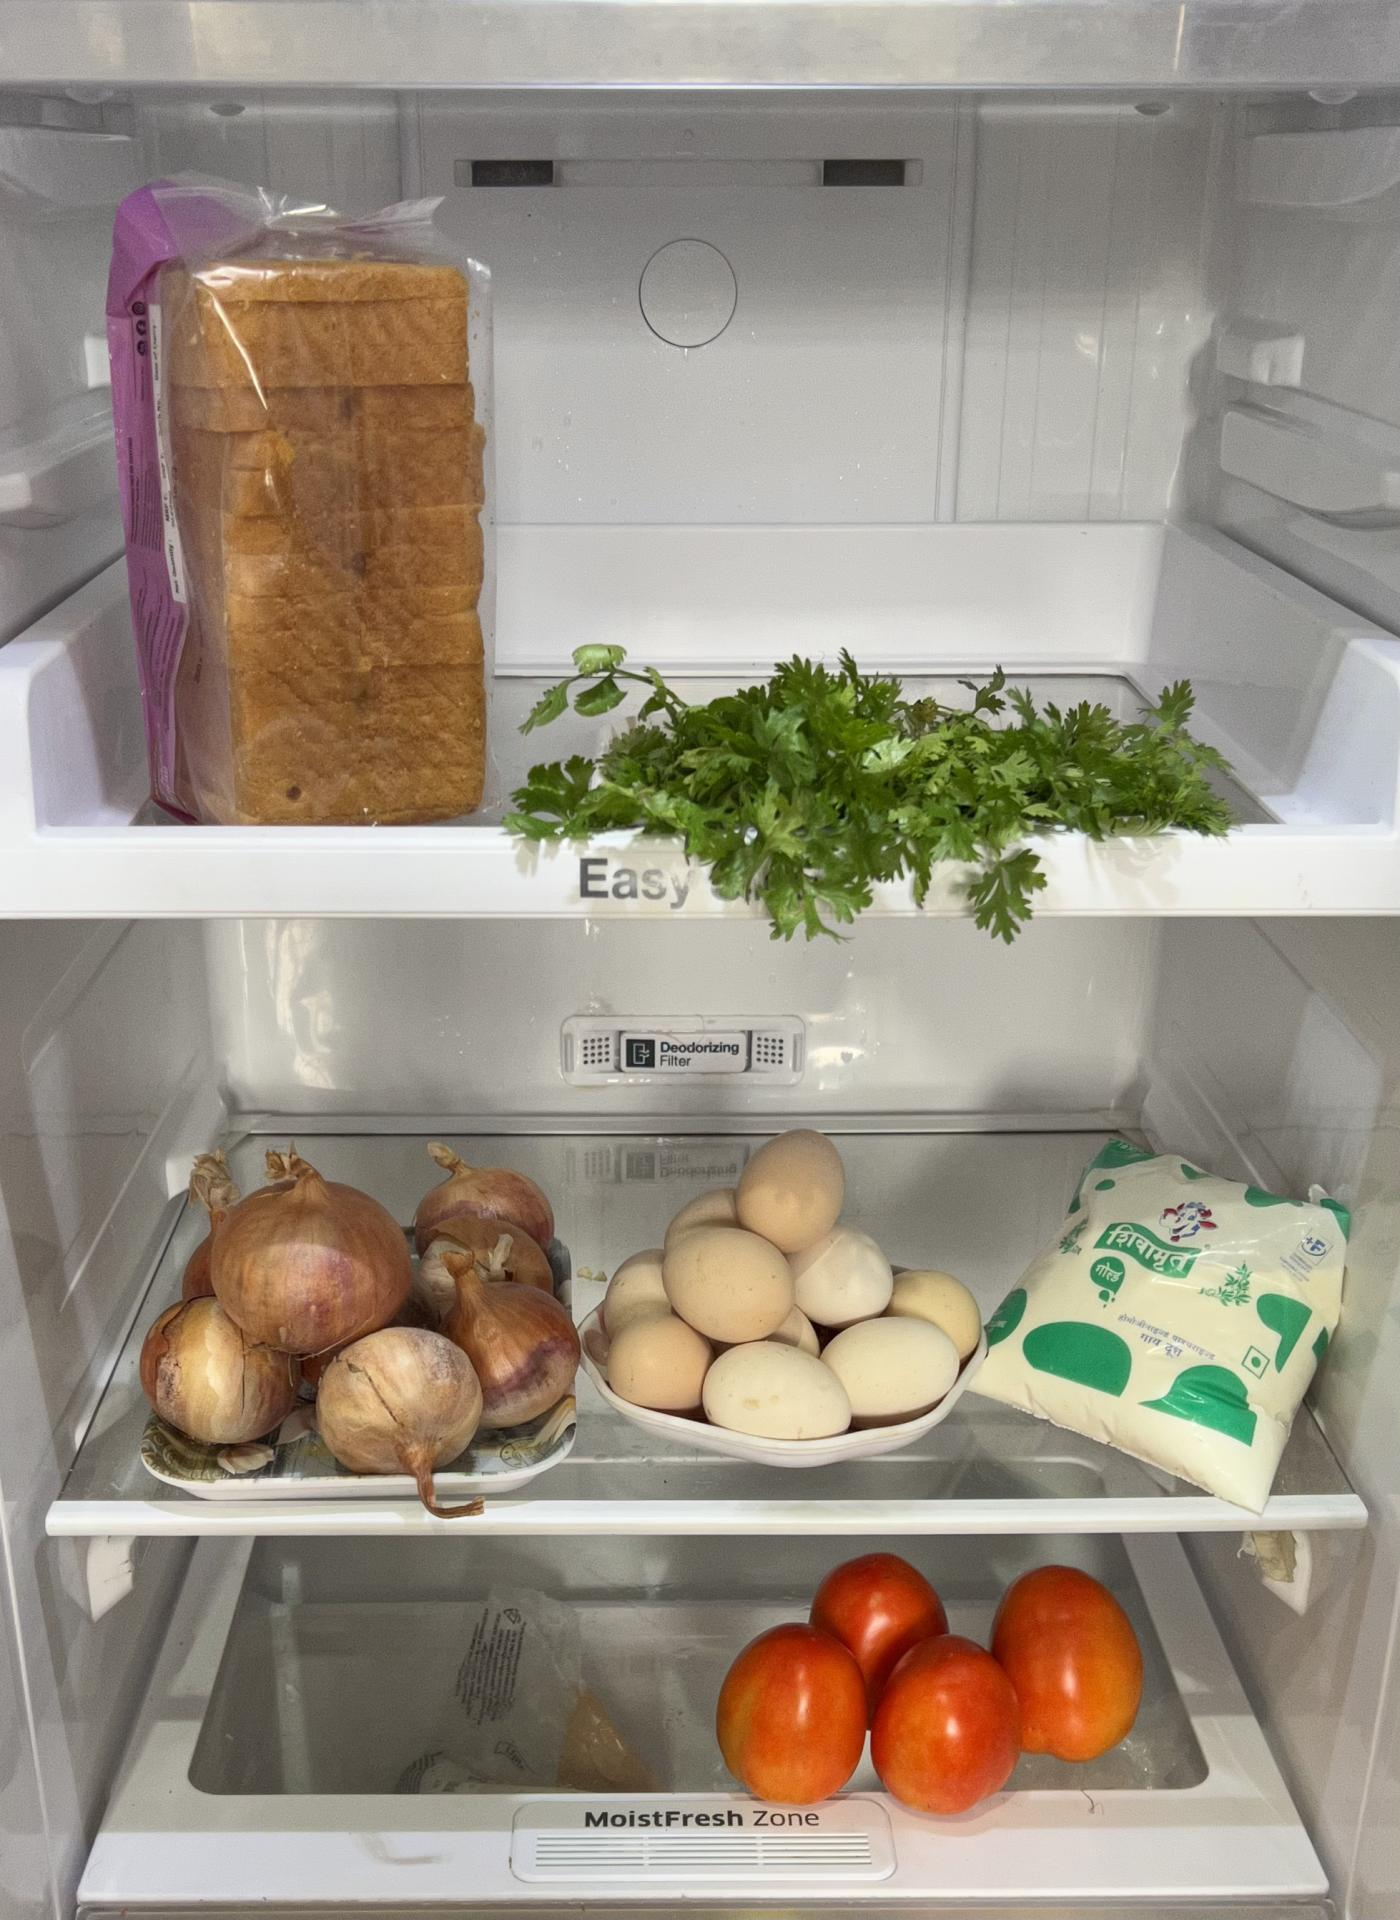bread: (91, 173, 507, 817)
coriander: (526, 637, 1243, 871)
egg: (601, 1130, 968, 1446)
milk: (987, 1140, 1366, 1486)
onion: (133, 1148, 583, 1476)
tomato: (719, 1544, 1142, 1822)
